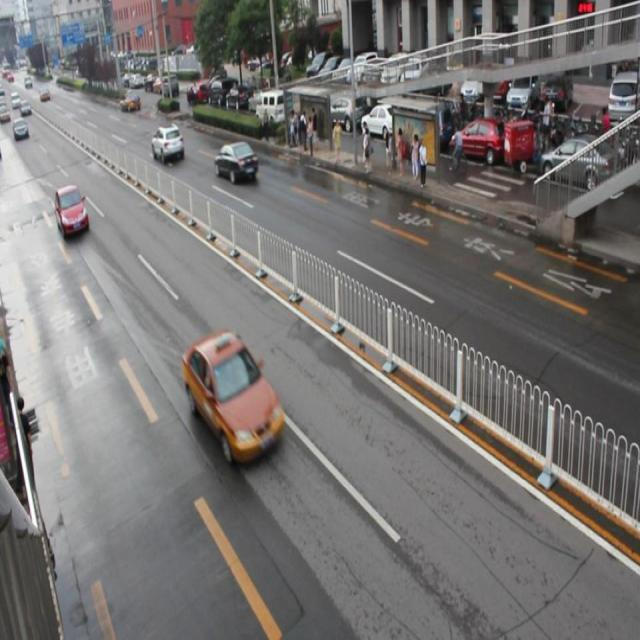car: (183, 331, 284, 467), (54, 184, 89, 237), (214, 142, 259, 182), (150, 126, 182, 161)
